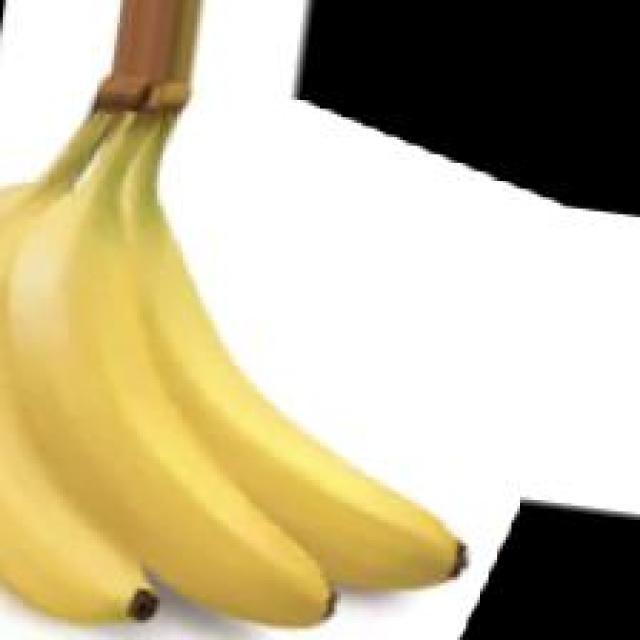banana: (11, 114, 443, 640)
